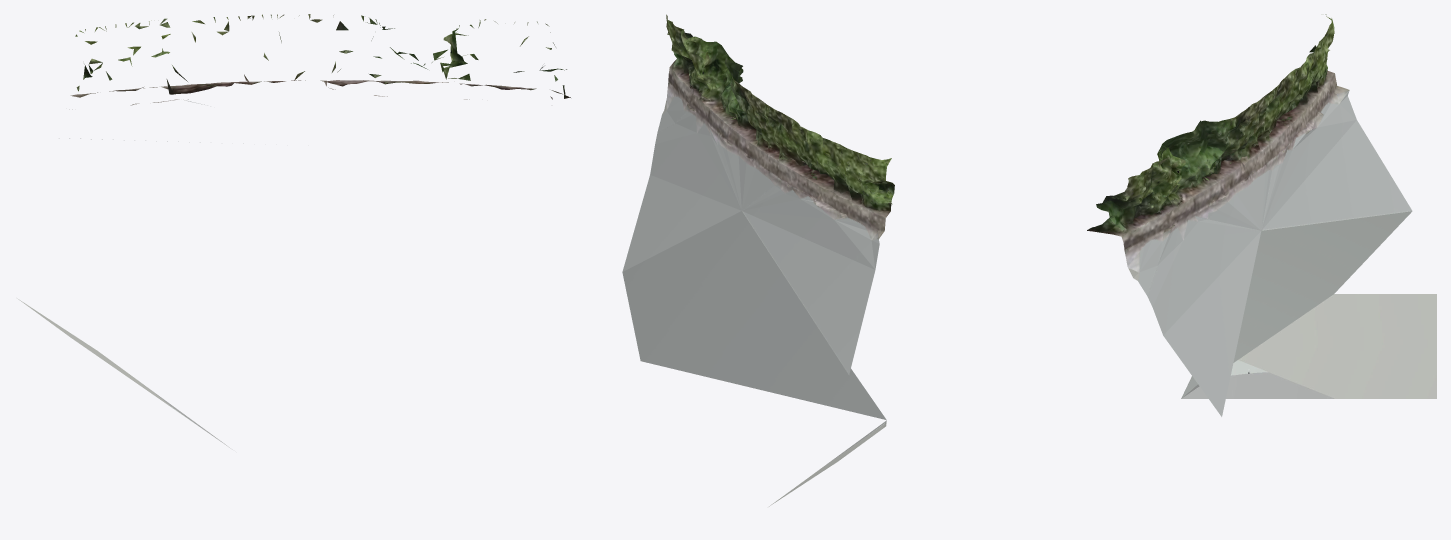
The picture shows the model from 3 angles, left to right: view 1: azimuth 30°, elevation 25°; view 2: azimuth 150°, elevation 25°; view 3: azimuth 270°, elevation 25°; orthographic projection. The views are drawn at different scales.
Size of the model in its own units: 1.97 by 1.95 by 1.97.
1 material, 1 textured.
